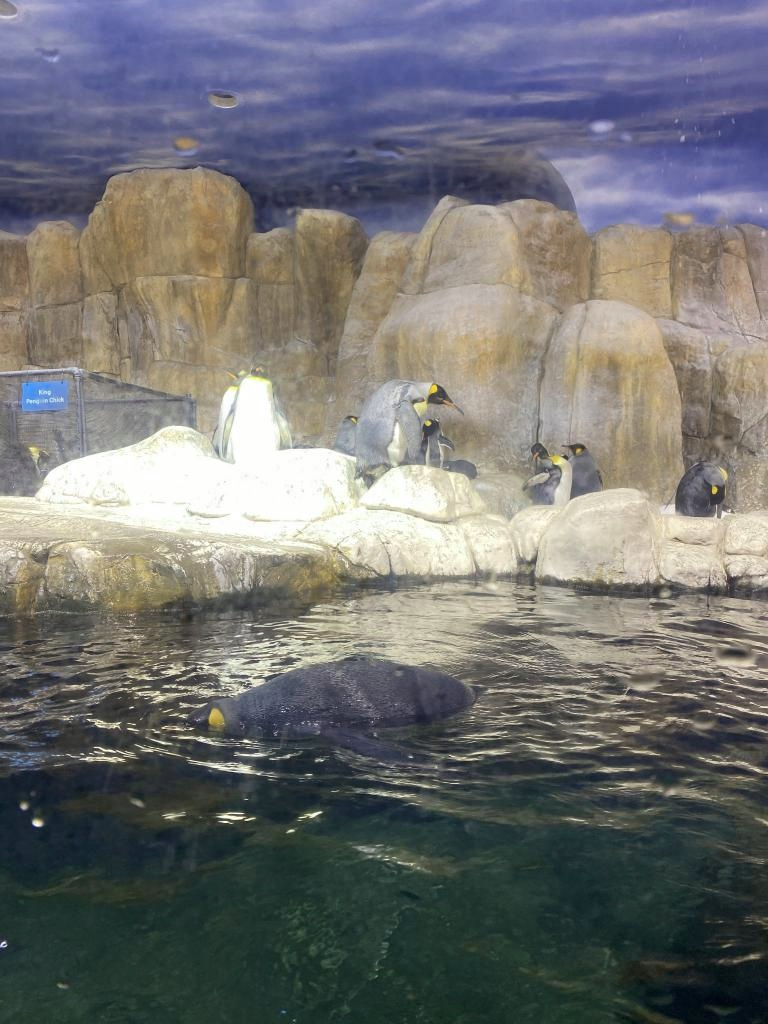penguin: (160, 658, 488, 764), (359, 366, 443, 484), (226, 365, 290, 455), (204, 354, 248, 456), (673, 452, 731, 520), (418, 410, 470, 484), (542, 444, 580, 508), (568, 434, 600, 504), (337, 407, 367, 467), (534, 440, 554, 500)
